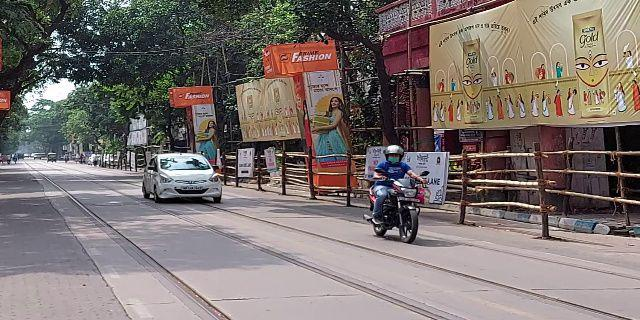Car: (140, 150, 225, 206)
Motorbike: (363, 142, 423, 244)
